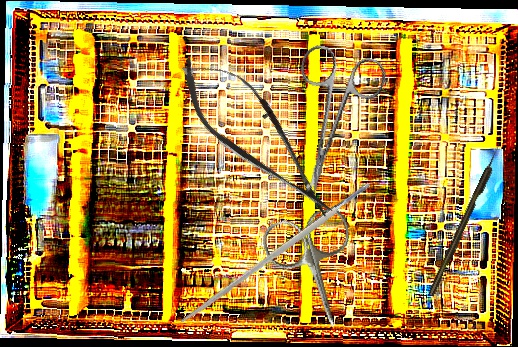Hook Surgical: (426, 144, 504, 298)
Iris Scissors: (267, 40, 390, 206), (258, 204, 374, 339)
Micro Scissor: (162, 38, 354, 236)
Scalpel Handle: (178, 181, 373, 327)
